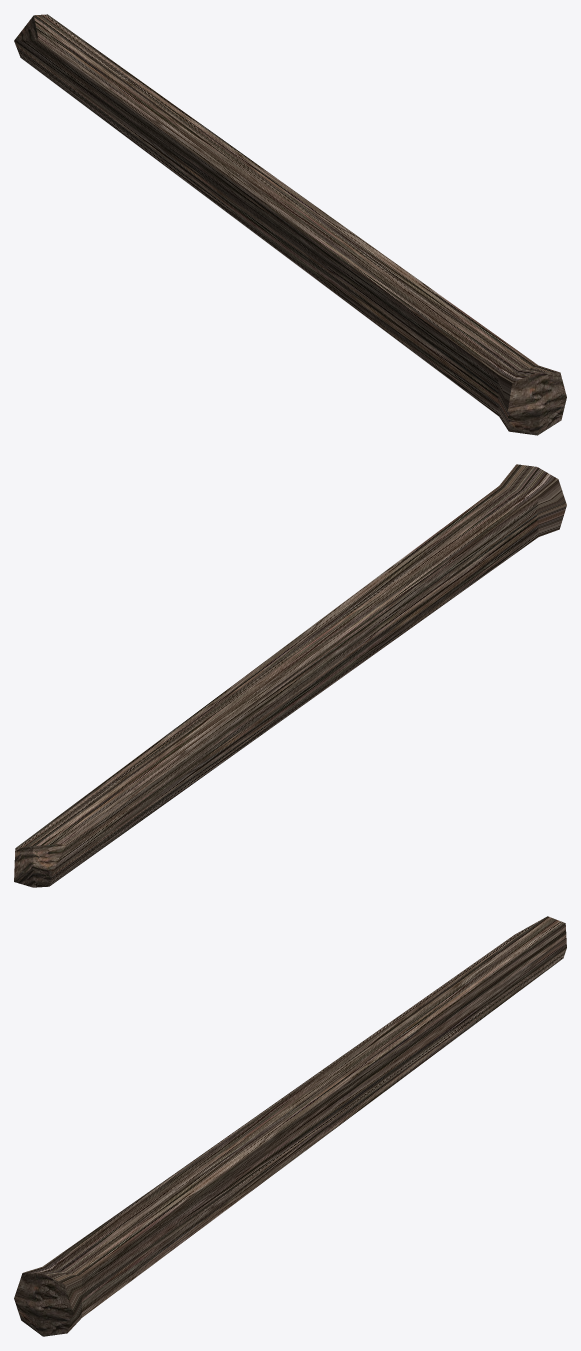
The model's file is log.glb.
3 views of the same model, one above another, from view 1: azimuth 30°, elevation 25°; view 2: azimuth 150°, elevation 25°; view 3: azimuth 330°, elevation 25° (orthographic).
Visible parts, largest first — view 1: Cube; view 2: Cube; view 3: Cube.
Boxes of the visible parts, <box> form: Cube: <box>14,14,566,435</box>; Cube: <box>14,464,566,887</box>; Cube: <box>14,916,566,1336</box>.
Size of the model in its own units: 0.1 by 0.1 by 1.5.
Materials: 1 (1 with a texture image).
